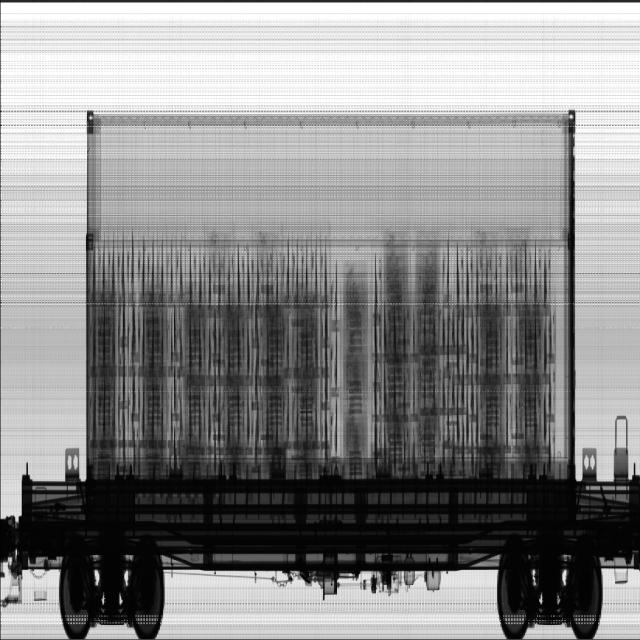spare parts: (88, 237, 331, 475)
